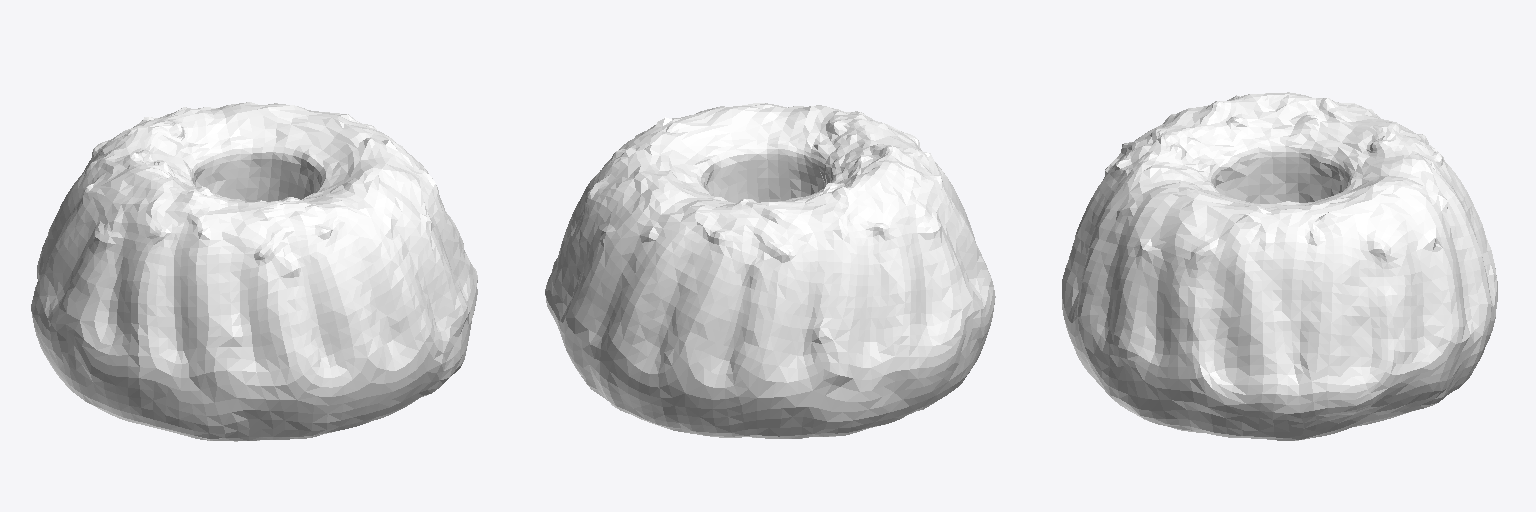
The model's file is Kake.obj.
The picture shows the model from 3 angles: view 1: azimuth 30°, elevation 25°; view 2: azimuth 150°, elevation 25°; view 3: azimuth 270°, elevation 25°; orthographic projection.
Parts seen in each view (by area): view 1: CL_Skin_Buca1; view 2: CL_Skin_Buca1; view 3: CL_Skin_Buca1.
Boxes of the visible parts, x1=… form: CL_Skin_Buca1: x1=31, y1=102, x2=477, y2=441; CL_Skin_Buca1: x1=545, y1=103, x2=995, y2=438; CL_Skin_Buca1: x1=1062, y1=92, x2=1497, y2=440.
Size of the model in its own units: 30.08 by 16.08 by 28.86.